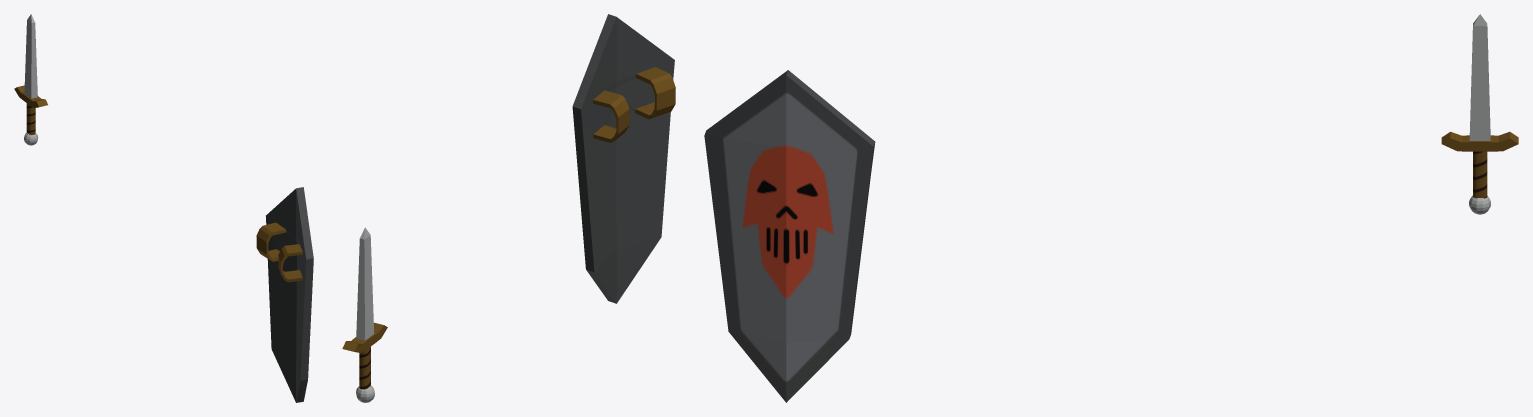
Rendered from ElfSoldierWeapons.fbx.
3 renders of one model, left to right at view 1: azimuth 30°, elevation 25°; view 2: azimuth 150°, elevation 25°; view 3: azimuth 270°, elevation 25°, orthographic. The views are drawn at different scales.
Parts seen in each view (by area): view 1: Shield, Sword; view 2: Shield, Sword; view 3: Shield, Sword.
Boxes of the visible parts, x1,y1,x2,y2 form: Shield: [256, 187, 313, 402]; Sword: [14, 14, 47, 145]; Shield: [572, 14, 675, 303]; Sword: [342, 227, 387, 402]; Shield: [704, 70, 875, 402]; Sword: [1441, 14, 1518, 214].
Bounding box in the file's own units: 93.63 × 403 × 837.
